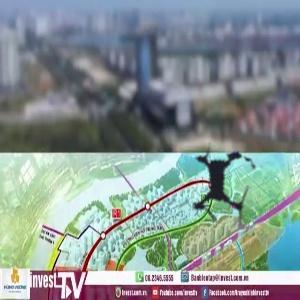drone: (156, 116, 296, 256)
